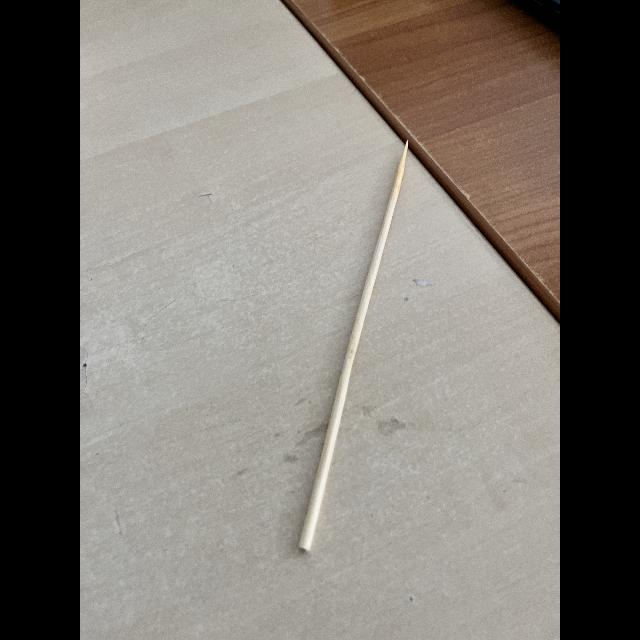stick: (262, 119, 458, 576)
